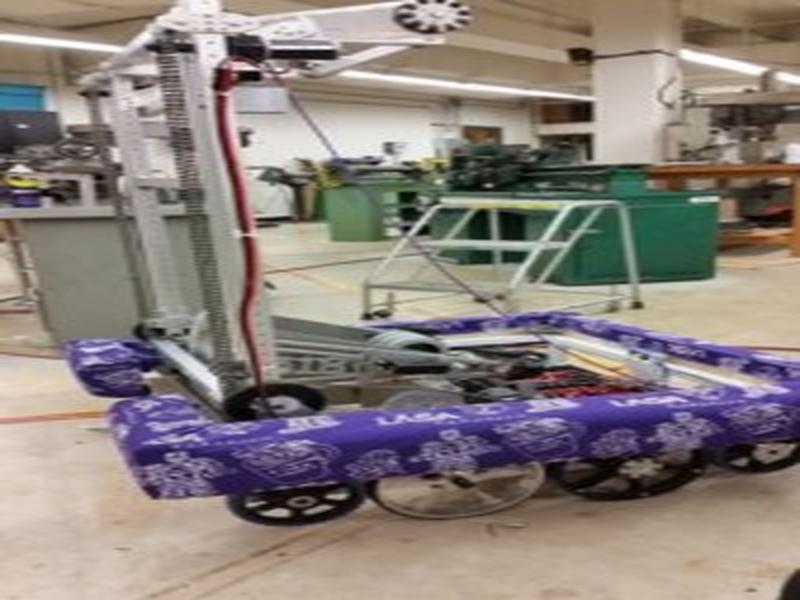robot: (74, 1, 799, 526)
